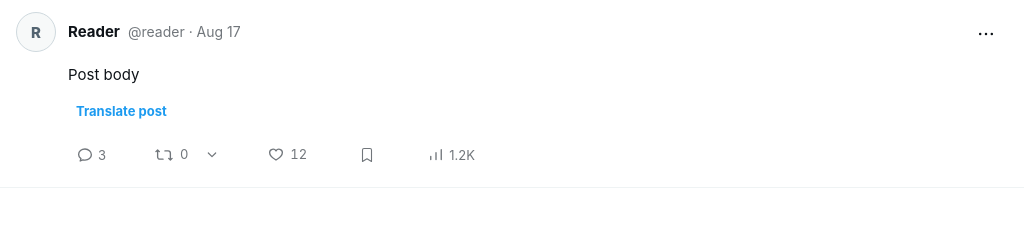
Test: PostCard View metric and telemetry lifecycle › translates on demand without replacing the original post body and supports hide/show
Click the button "Translate post" at (121, 110), box [68,94,175,126]
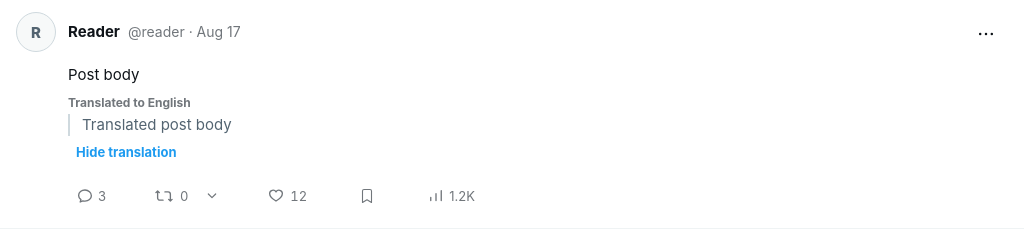
Expected: the element showing "Translated post body" is shown, [68,114,1008,136]
Expected: the text "Translated to English" is shown, [68,94,191,110]
Expected: the button "Hide translation" is shown
Click the button "Hide translation" at (126, 152), box [68,136,184,168]
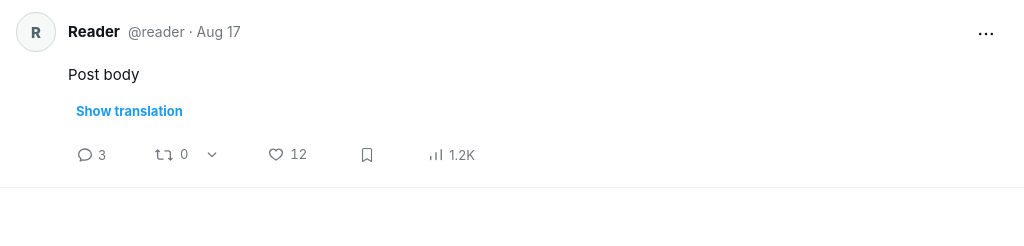
Expected: the button "Show translation" is shown
Click the button "Show translation" at (129, 110), box [68,94,191,126]
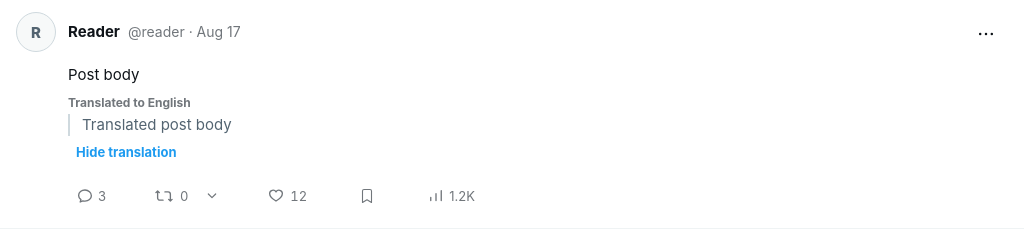
Expected: the element showing "Translated post body" is shown, [68,114,1008,136]
